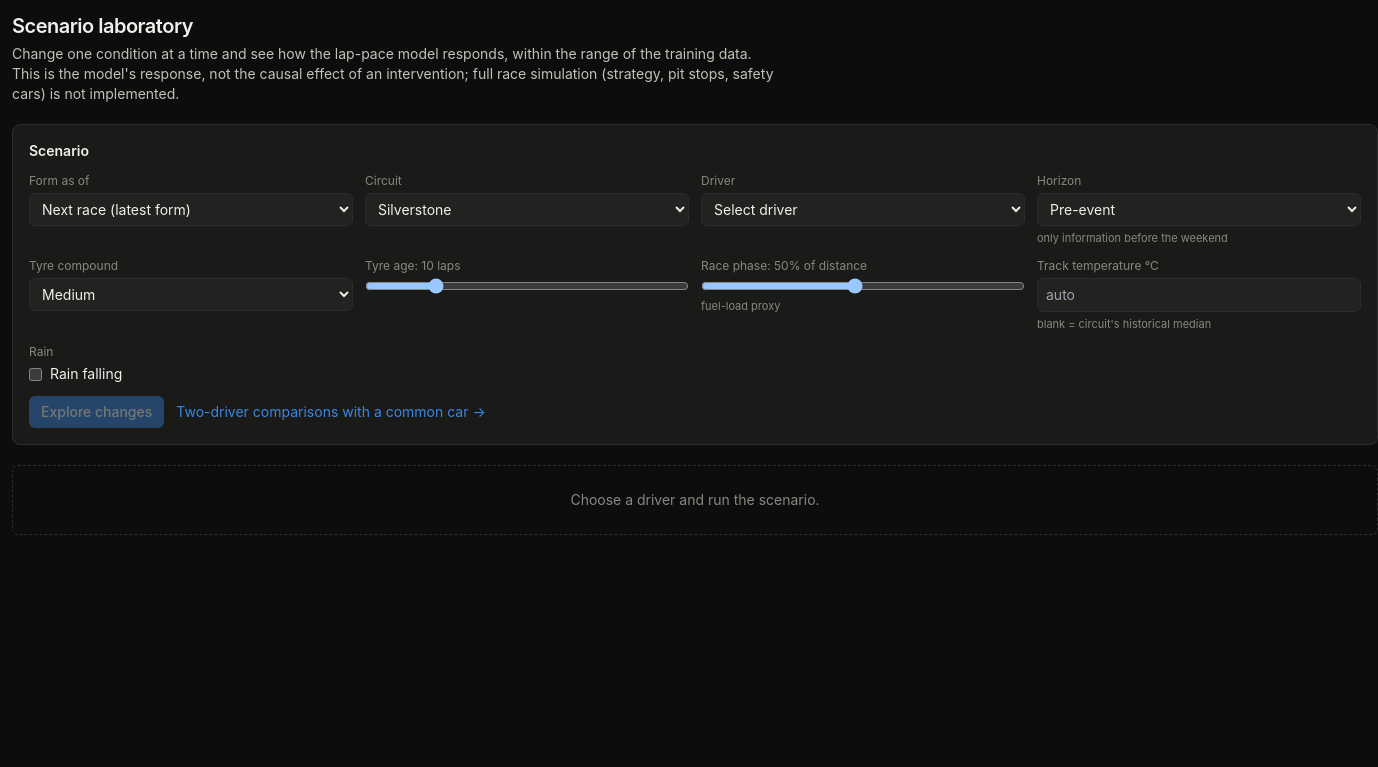
Test case: Scenario laboratory › shows single-change responses with the non-causal note
The image size is (1378, 767).
Select "Alpha Driver" in the dropdown labelled "Driver": (863, 210) [701,193,1025,226]
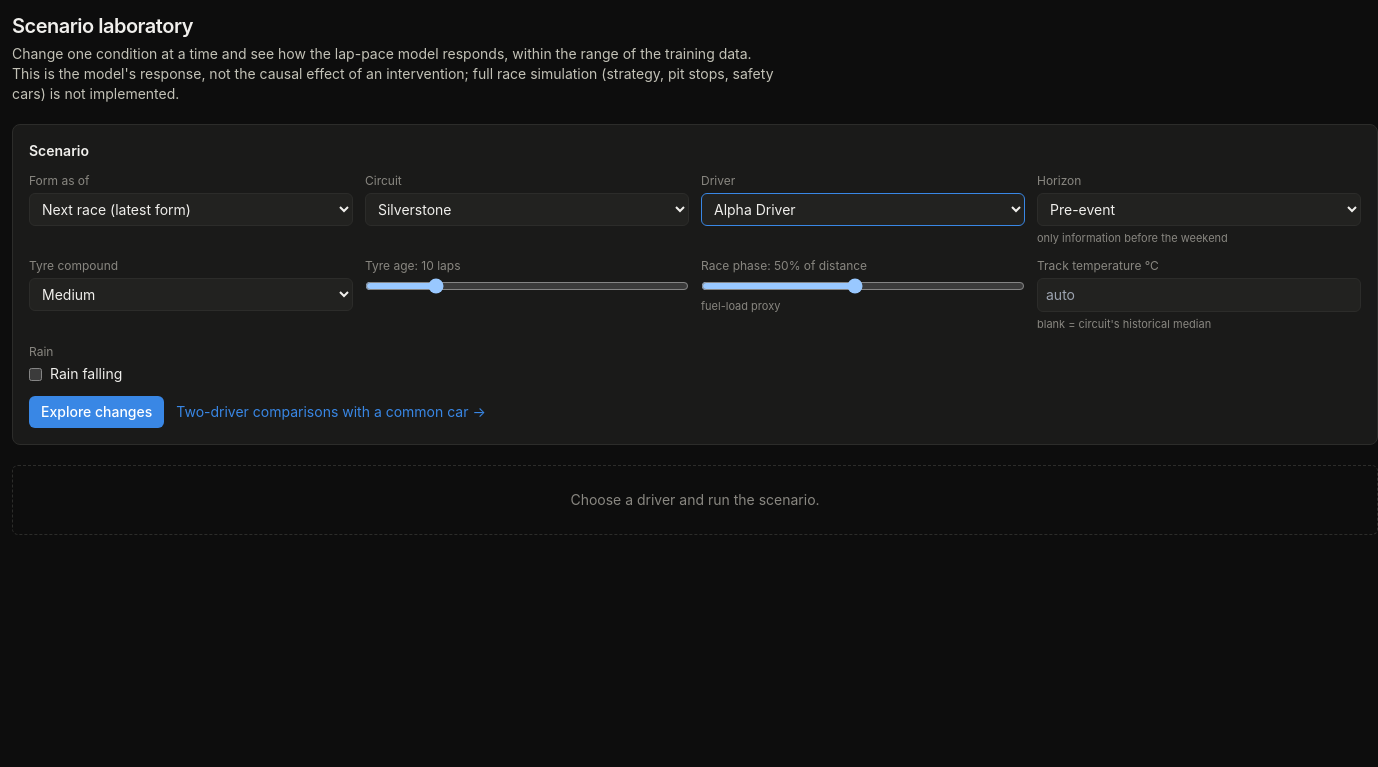
Click the button "Explore changes": (97, 412) [29,396,164,428]
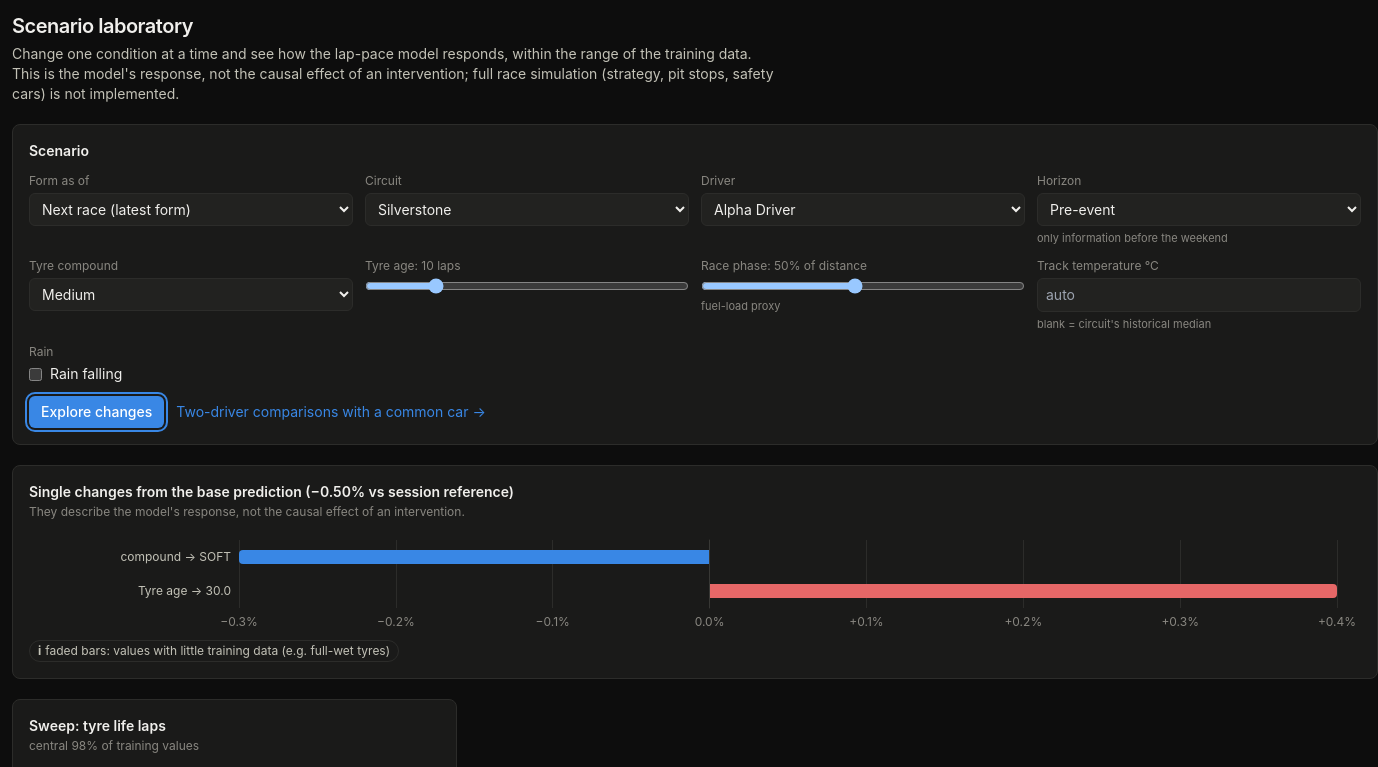
Expected: the text "They describe the model.s response" is shown, [29,504,465,519]
Expected: the heading "Sweep: tyre life laps" is shown, [29,717,166,734]
